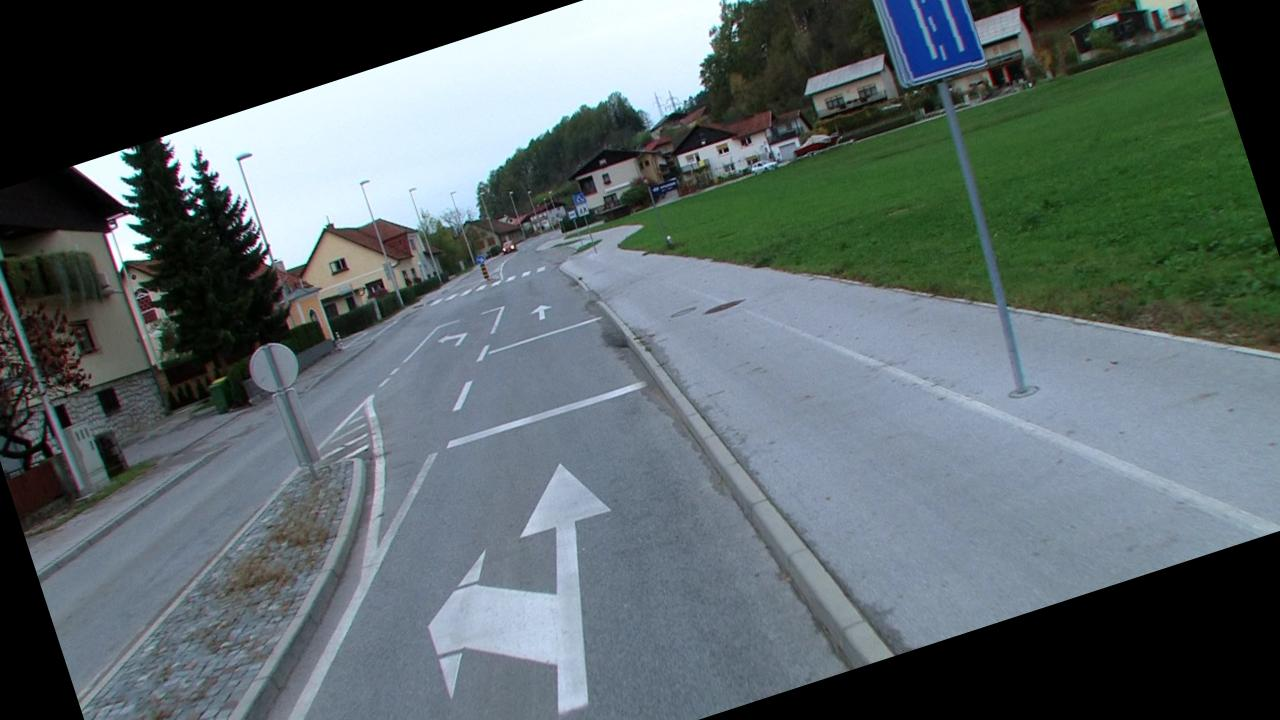Rectangle: (857, 0, 988, 95)
Round: (476, 256, 486, 266)
Squared: (572, 189, 588, 206), (576, 204, 590, 220)
